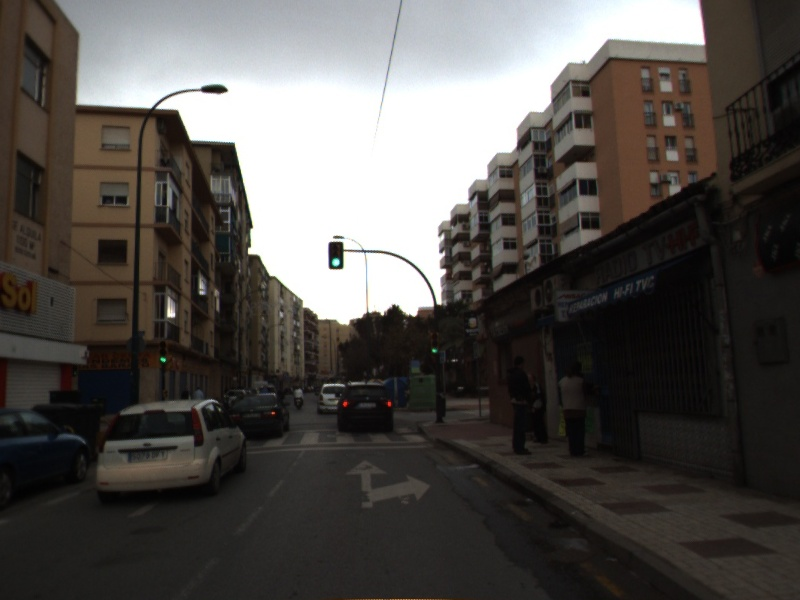STRAIGHT_RIGHT: (343, 457, 434, 510)
